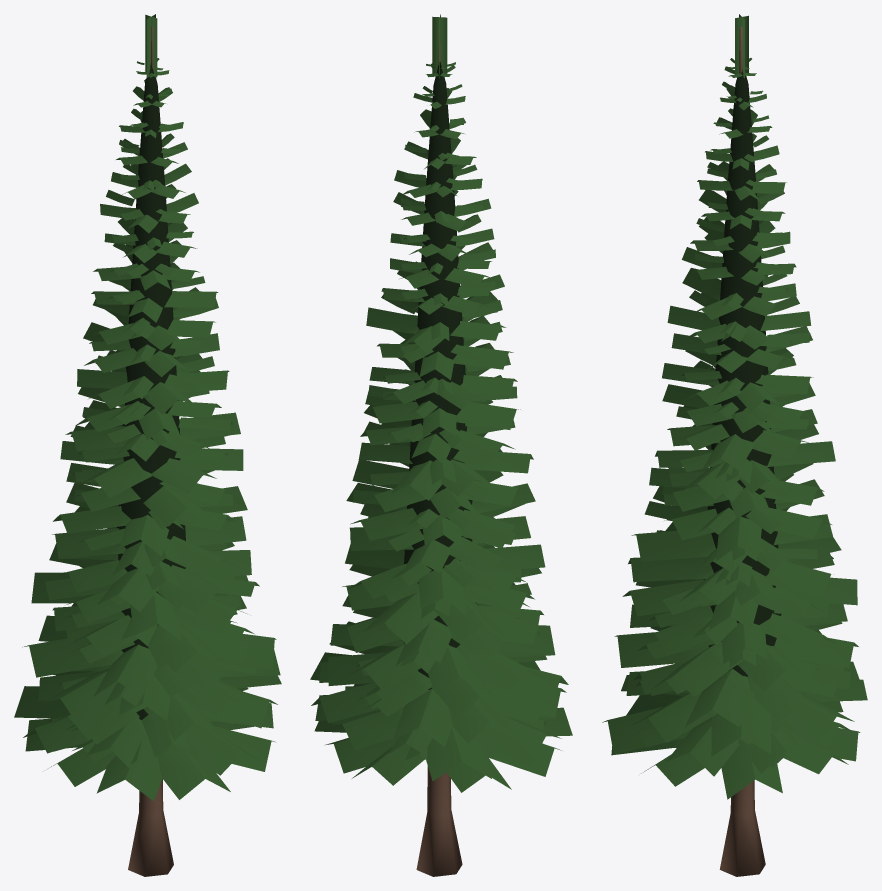
Rendered from tree_forest_b.glb.
3 views of the same model, side by side, from view 1: azimuth 30°, elevation 25°; view 2: azimuth 150°, elevation 25°; view 3: azimuth 270°, elevation 25° (orthographic).
Parts seen in each view (by area): view 1: tree_forest_b_lod0; view 2: tree_forest_b_lod0; view 3: tree_forest_b_lod0.
Boxes of the visible parts, <box> form: tree_forest_b_lod0: <box>14,14,281,876</box>; tree_forest_b_lod0: <box>310,14,572,876</box>; tree_forest_b_lod0: <box>602,14,867,876</box>.
Size of what is drawn, in the model's own units: 5.89 by 21.06 by 5.94.
